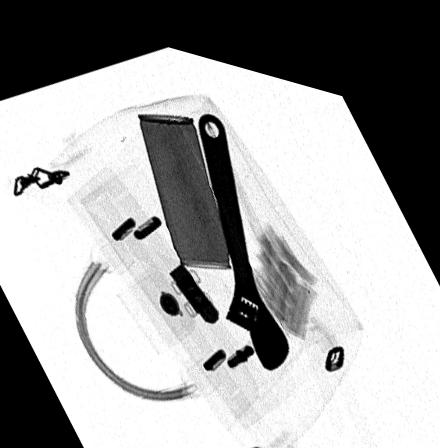Wrench: (199, 102, 288, 353)
